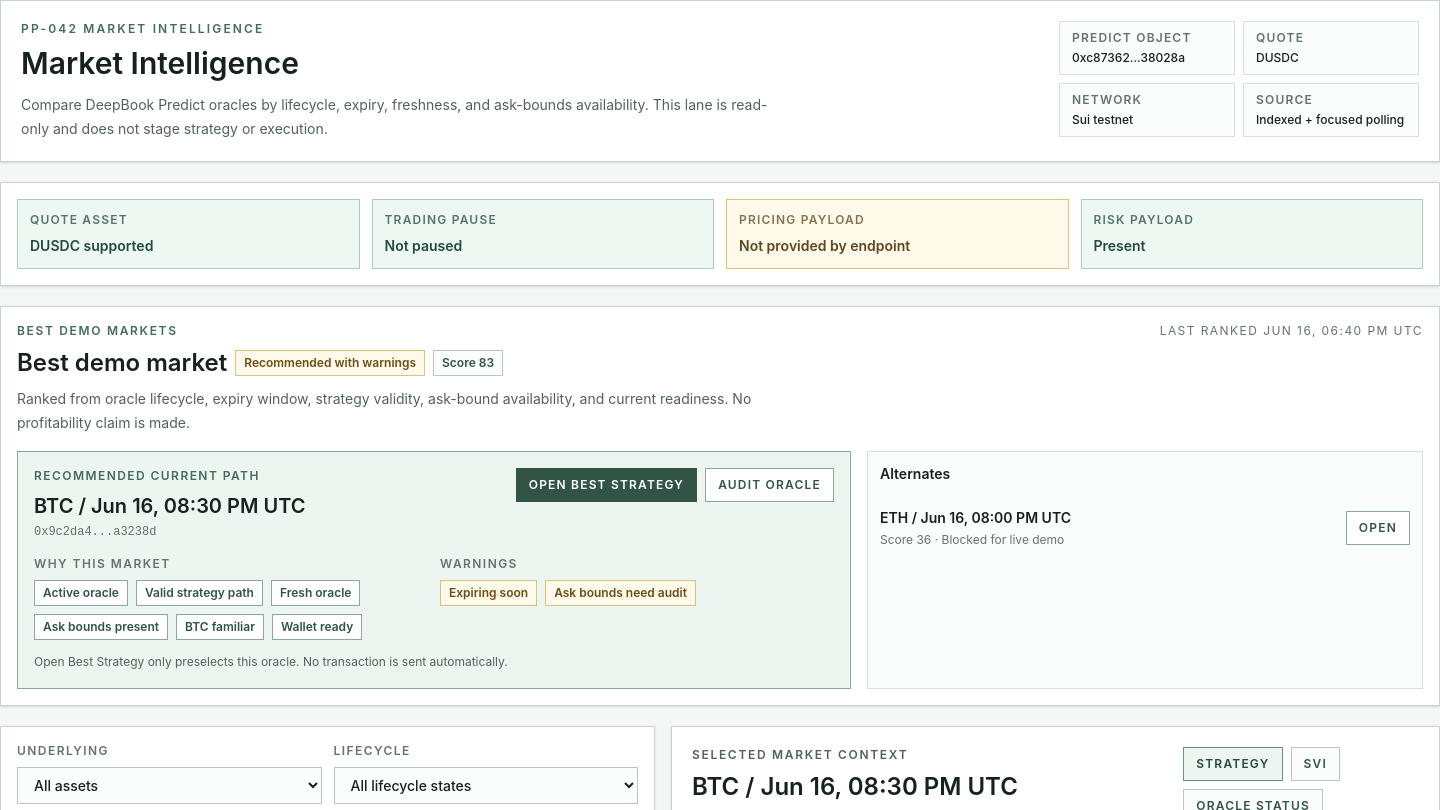
MarketIntelligencePage › filters by loaded underlying and lifecycle values without requesting new data shapes
Select "ETH" in the dropdown labelled "Underlying". click: (169, 786)
box: [17, 767, 322, 804]
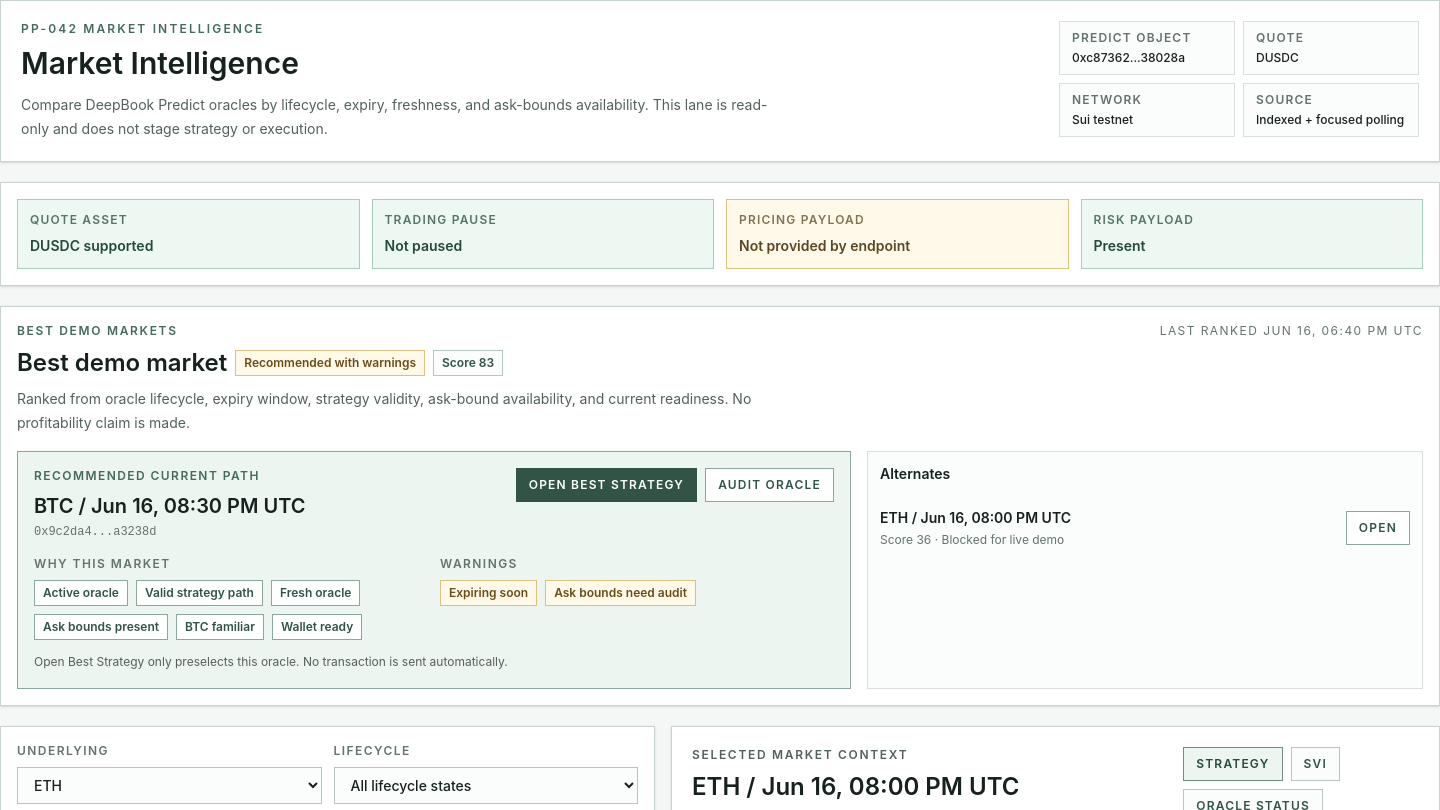
Check: the element labelled "Selected market" shows "ETH", box [692, 772, 740, 801]
Select "Active" in the dropdown labelled "Lifecycle". click: (486, 786)
box: [334, 767, 638, 804]
(page scrolled)
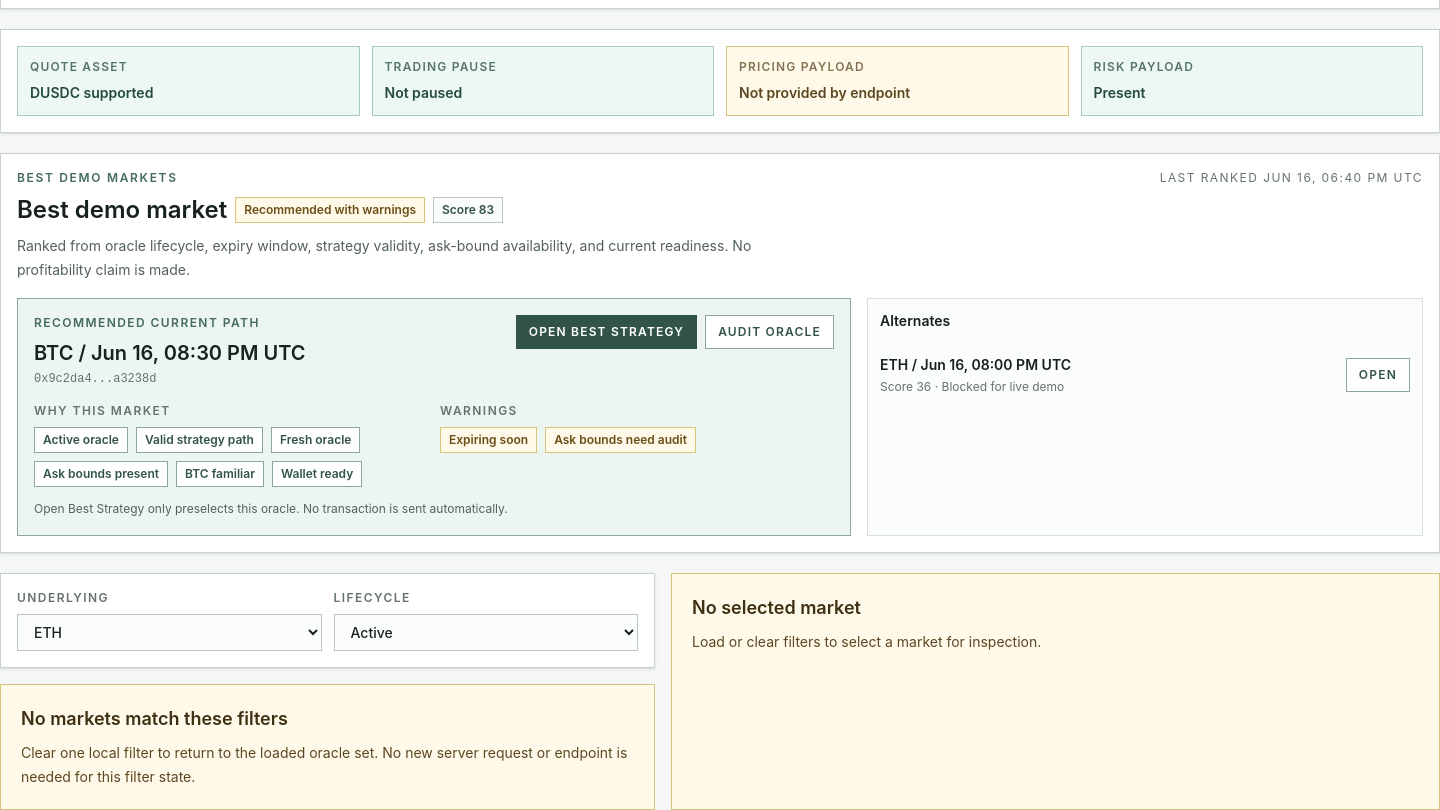
Check: the heading "No markets match these filters" is shown, box [21, 708, 288, 729]
